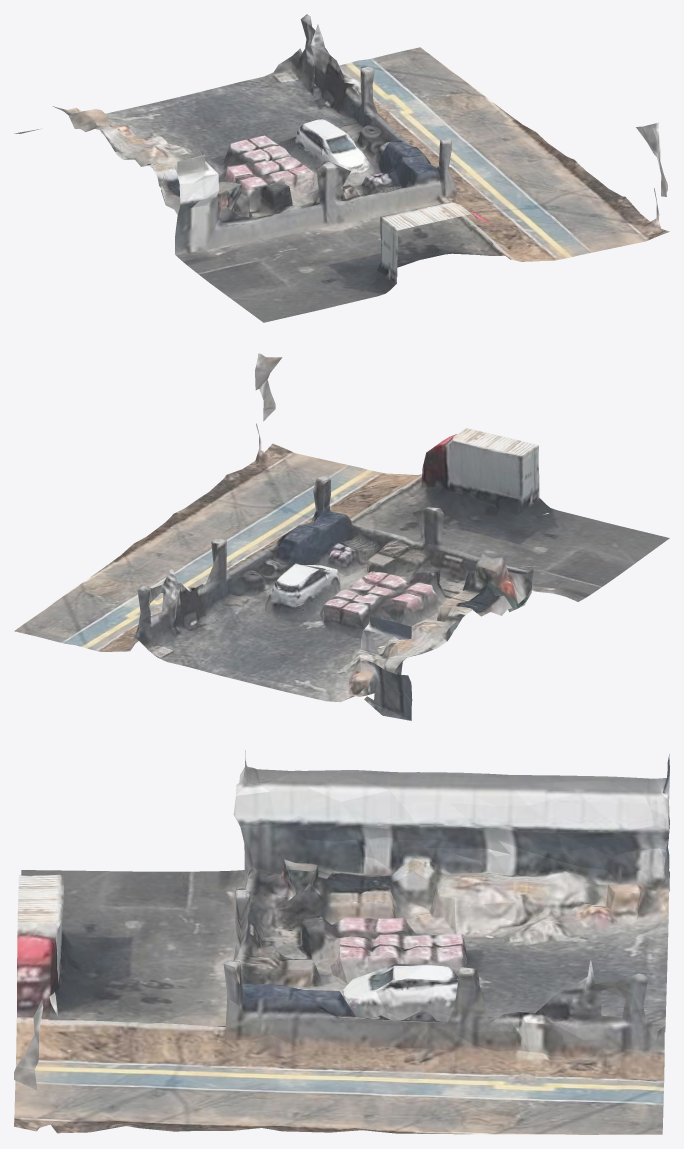
The model's file is Tile_+007_+012_L20_0uuuu36.glb.
3 renders of one model, top to bottom at view 1: azimuth 30°, elevation 25°; view 2: azimuth 150°, elevation 25°; view 3: azimuth 270°, elevation 25°, orthographic. The views are drawn at different scales.
Visible parts, largest first — view 1: rtc; view 2: rtc; view 3: rtc.
Boxes of the visible parts, x1=… form: rtc: x1=14, y1=14, x2=669, y2=322; rtc: x1=14, y1=353, x2=669, y2=720; rtc: x1=14, y1=750, x2=669, y2=1134.
Size of the model in its own units: 22.82 by 5.66 by 24.95.
Materials: 2 (2 with a texture image).
